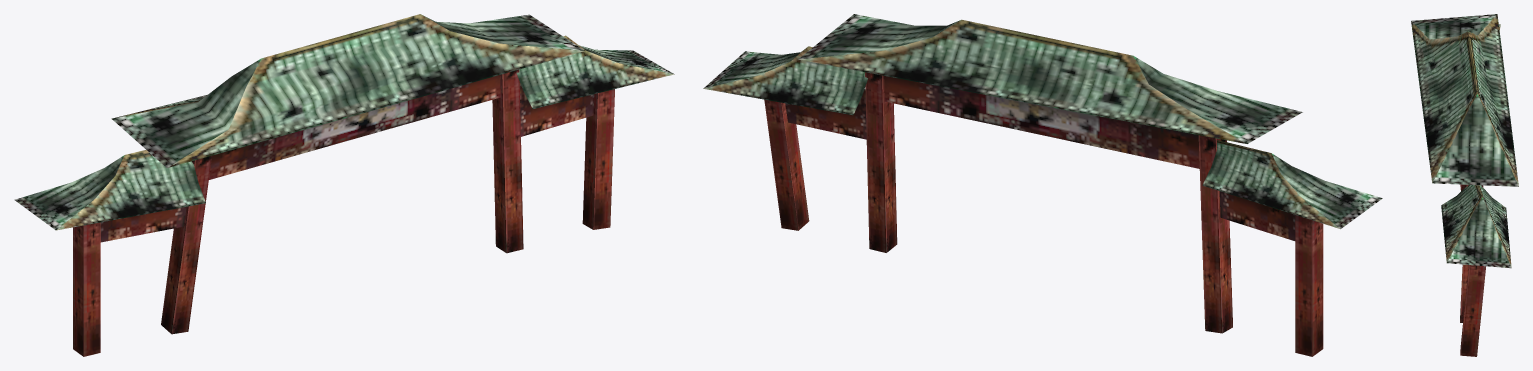
File: USA - Prop - Ancient Wooden Gate 02 - Damaged - PAAnWdGte02_D.glb
3 renders of one model, left to right at view 1: azimuth 30°, elevation 25°; view 2: azimuth 150°, elevation 25°; view 3: azimuth 270°, elevation 25°, orthographic. The views are drawn at different scales.
Visible parts, largest first — view 1: PAANWDGTE02_D; view 2: PAANWDGTE02_D; view 3: PAANWDGTE02_D.
Part boxes in pixels (<box>): PAANWDGTE02_D: <box>14,14,674,356</box>; PAANWDGTE02_D: <box>703,14,1382,356</box>; PAANWDGTE02_D: <box>1411,14,1518,356</box>.
Bounding box in the file's own units: 105 × 40.31 × 20.17.
1 material, 1 textured.
